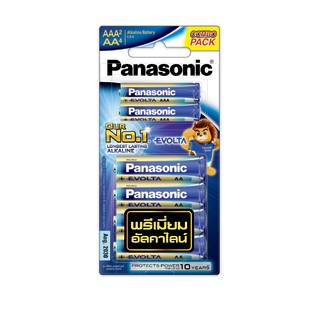Battery: (111, 181, 206, 209), (111, 156, 207, 181), (118, 81, 202, 103), (117, 104, 203, 122)
